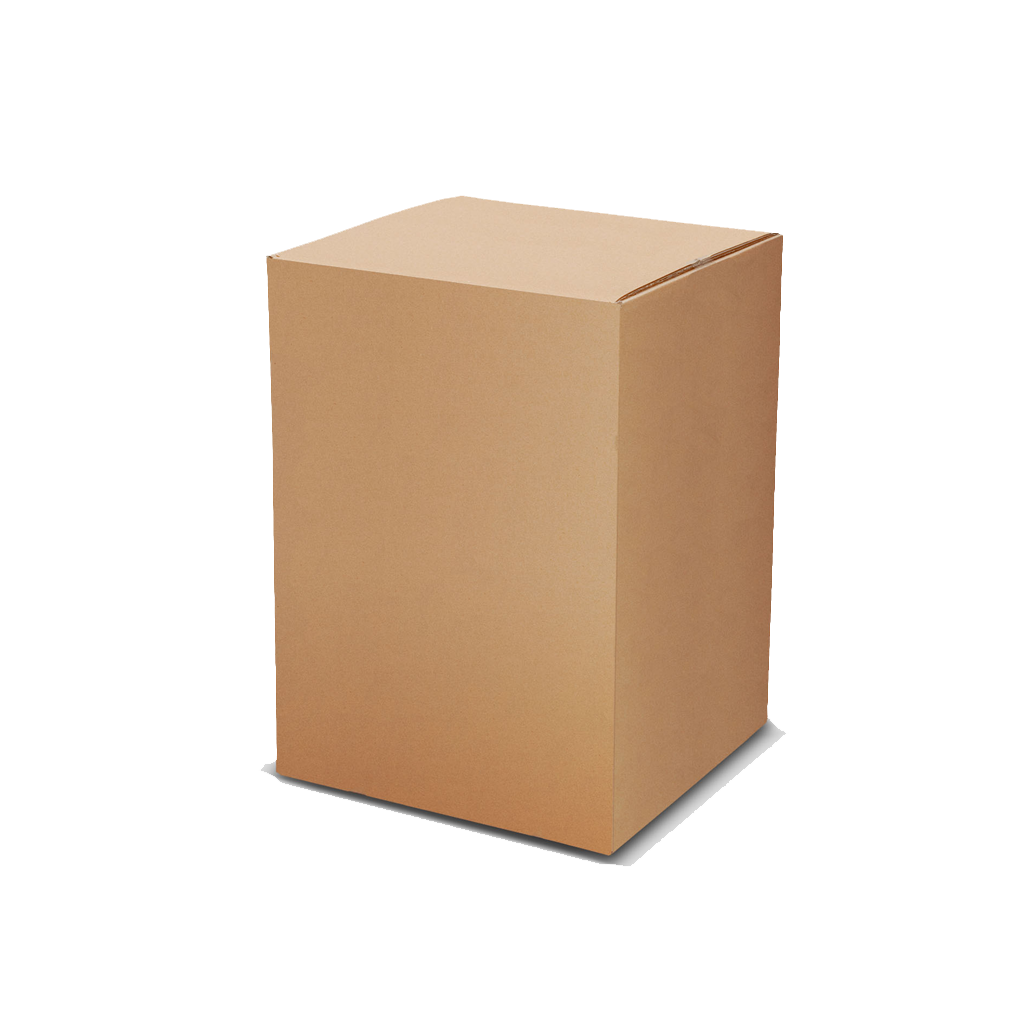Rec_Paper: (121, 81, 904, 887)
